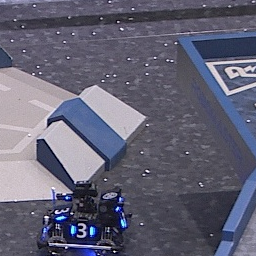Blue: (70, 223, 96, 238), (54, 204, 72, 222)
Robot: (37, 180, 130, 256)
